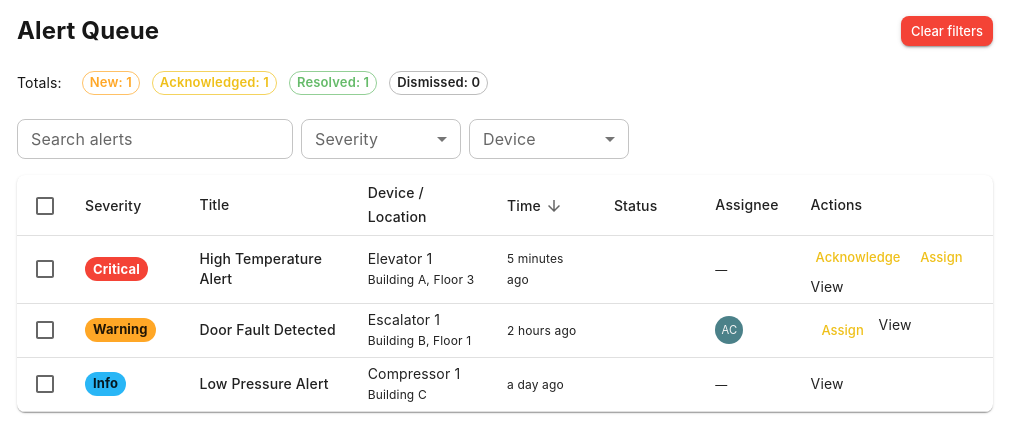
AlertsPage › filters by New status chip click
Click the New chip to filter
Click the button with test id "summary-chip-new" at (111, 83), box x1=82 y1=71 x2=140 y2=95
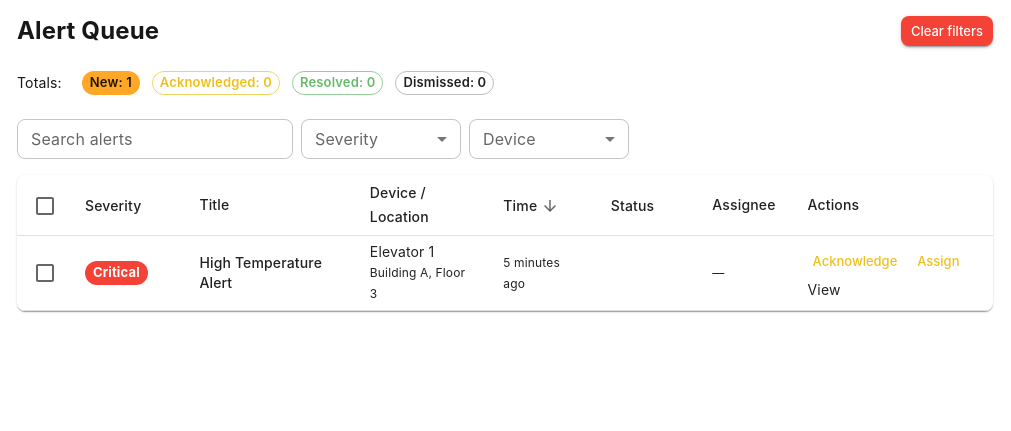
Check: the text "High Temperature Alert" is shown, box x1=199 y1=253 x2=338 y2=293
Check: the text "Door Fault Detected" is gone
